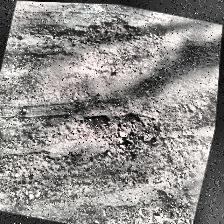pothole: (50, 2, 152, 62), (69, 98, 160, 160)
